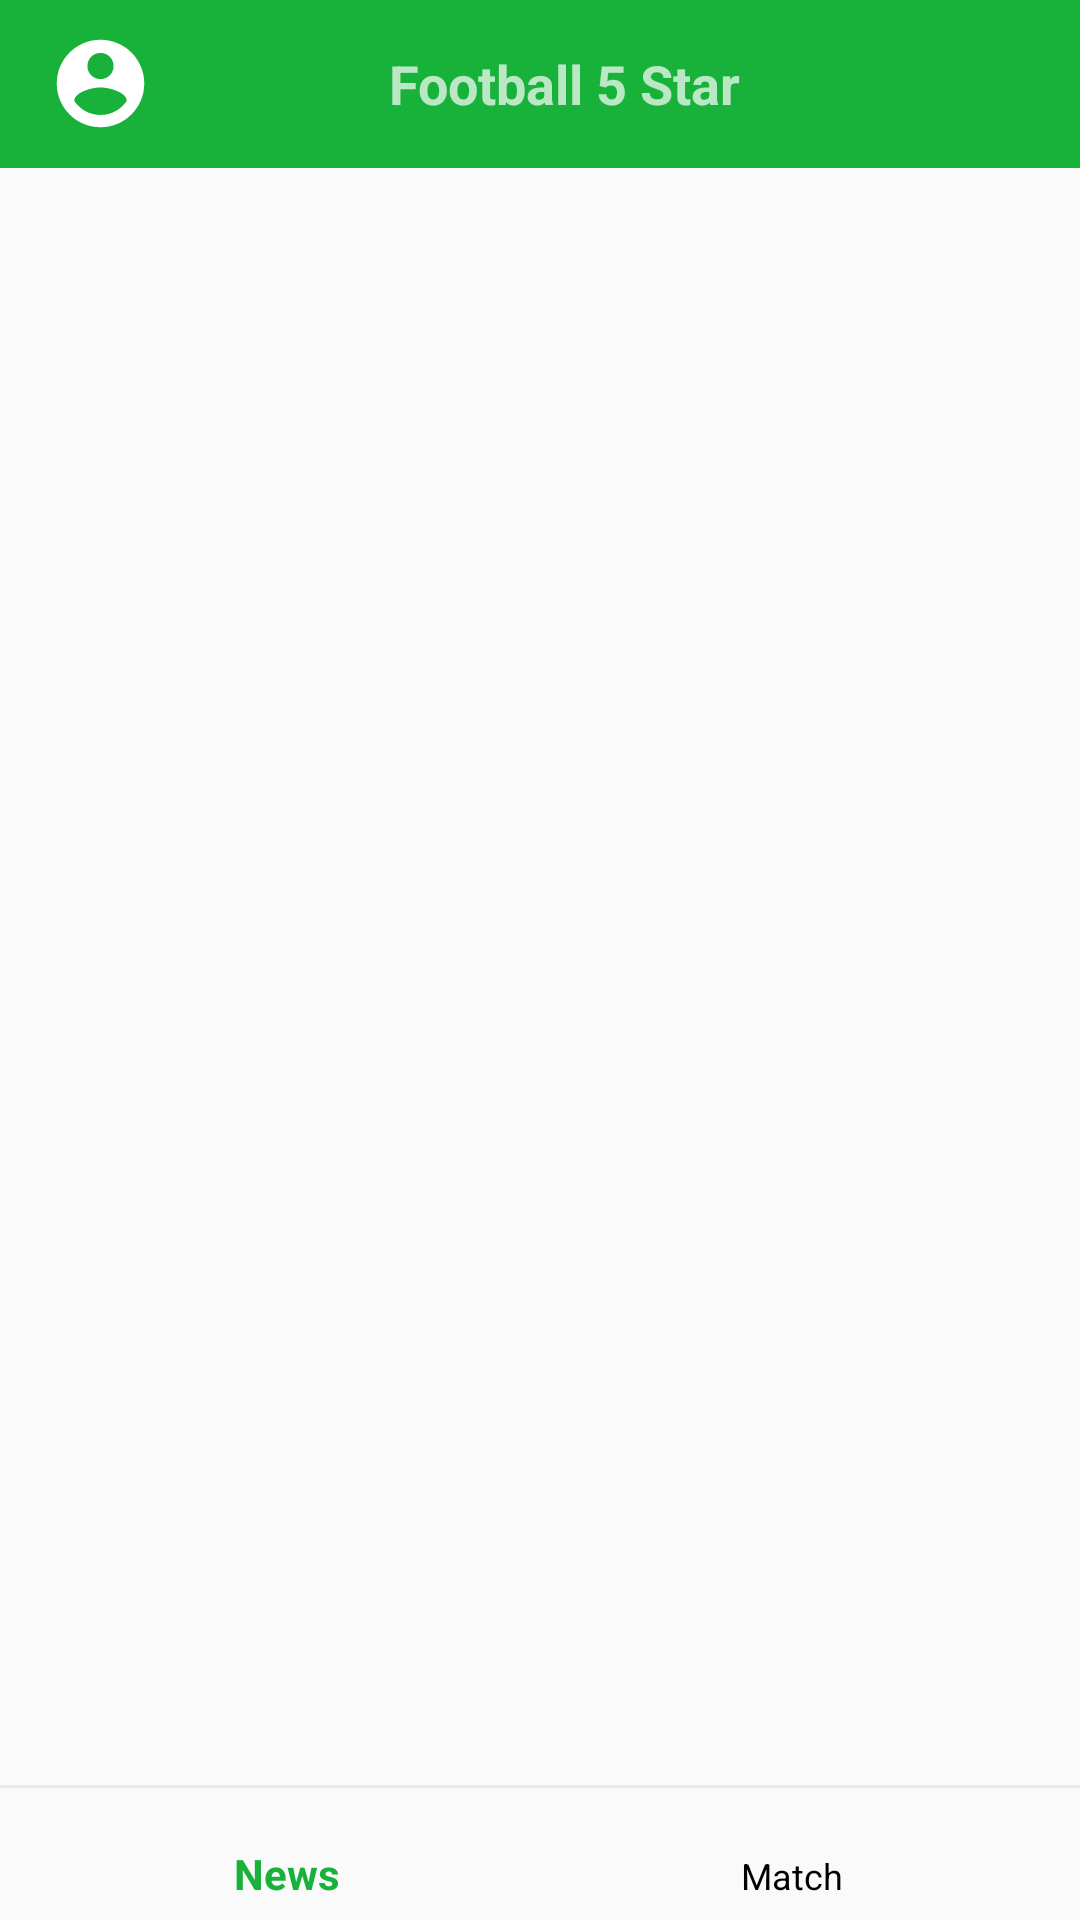

Where icons sit on this 1080px x 1920px app screen, as (x1, y1, x2, y2):
user: (56, 39, 145, 128)
